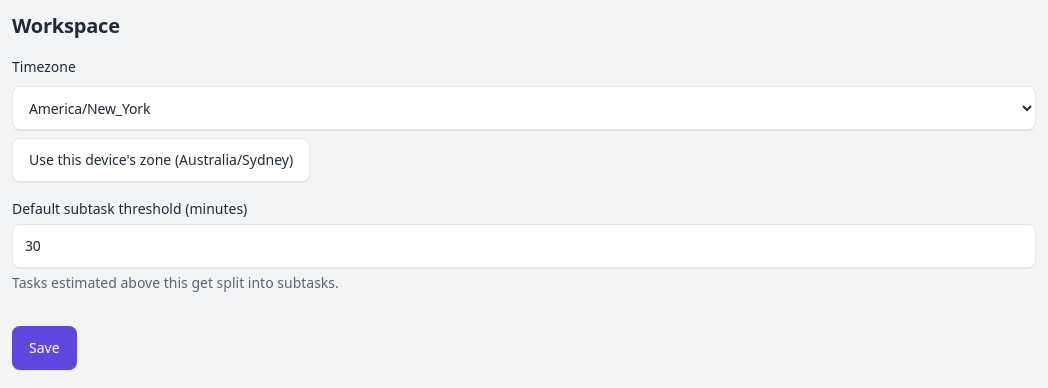
Test case: WorkspaceSection › [P0-26][REL-6] T-P0-26-02 timezone picker lists IANA zones and proposes the browser's
Expected: the dropdown labelled "Timezone" shows "America/New_York", [12, 86, 1036, 130]
Click the button "Use this device's zone (Australia/Sydney)": (161, 160) [12, 138, 310, 182]
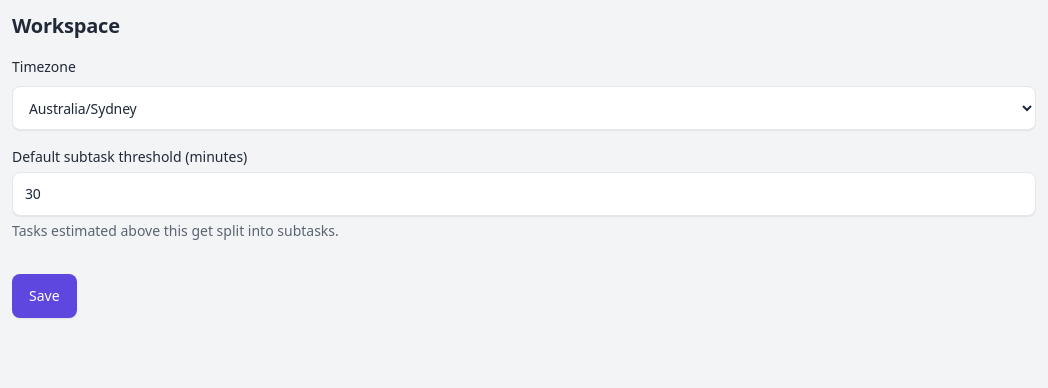
Now the dropdown labelled "Timezone" shows "Australia/Sydney", box [12, 86, 1036, 130]
Now the button "Use this device's zone" is gone
